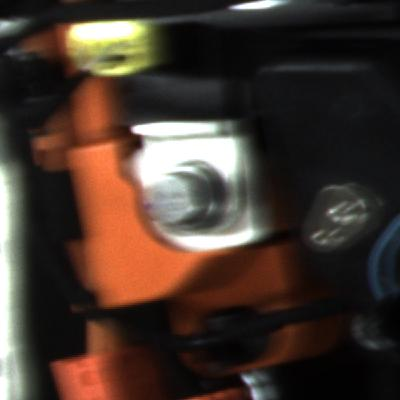nut_b: (136, 157, 222, 239)
